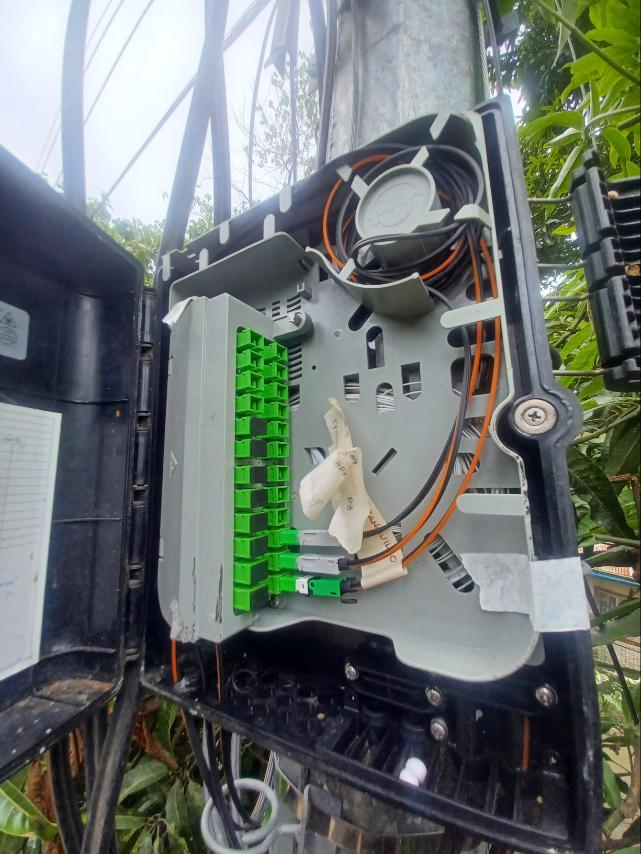no dust cap: (249, 329, 265, 349), (249, 350, 265, 370), (275, 383, 291, 402), (249, 371, 264, 391), (249, 394, 264, 413), (274, 342, 288, 362), (276, 362, 289, 381), (277, 486, 290, 503), (277, 508, 289, 526), (277, 402, 289, 419), (278, 466, 290, 482), (277, 422, 289, 436), (278, 443, 289, 457)
occupied: (277, 577, 356, 600), (279, 555, 350, 576), (278, 527, 346, 547)
vacant: (250, 533, 269, 560), (251, 560, 270, 586), (251, 586, 270, 612), (249, 510, 269, 533), (251, 489, 268, 511), (250, 466, 267, 486), (249, 439, 267, 457), (252, 418, 267, 435)
